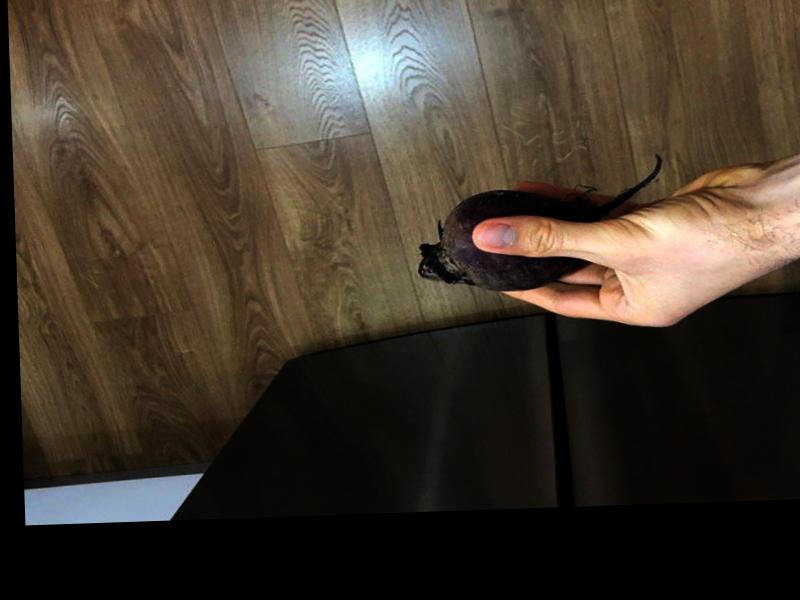Beet: (412, 153, 663, 294)
